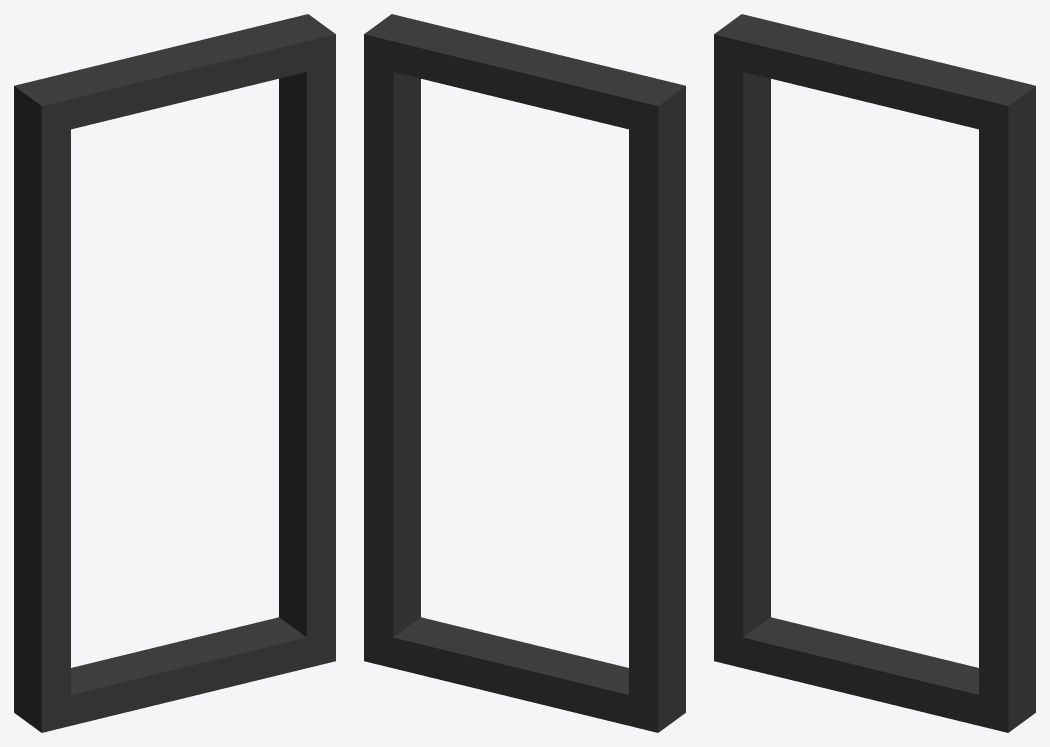
File: StreetDoorFrame_02.fbx
The picture shows the model from 3 angles, left to right: view 1: azimuth 30°, elevation 25°; view 2: azimuth 150°, elevation 25°; view 3: azimuth 330°, elevation 25°; orthographic projection.
Parts seen in each view (by area): view 1: StreetDoorFrame_02; view 2: StreetDoorFrame_02; view 3: StreetDoorFrame_02.
Boxes of the visible parts, x1,y1,x2,y2 form: StreetDoorFrame_02: (14,14,335,732); StreetDoorFrame_02: (364,14,685,732); StreetDoorFrame_02: (714,14,1035,732).
Size of the model in its own units: 111 by 226 by 18.12.
